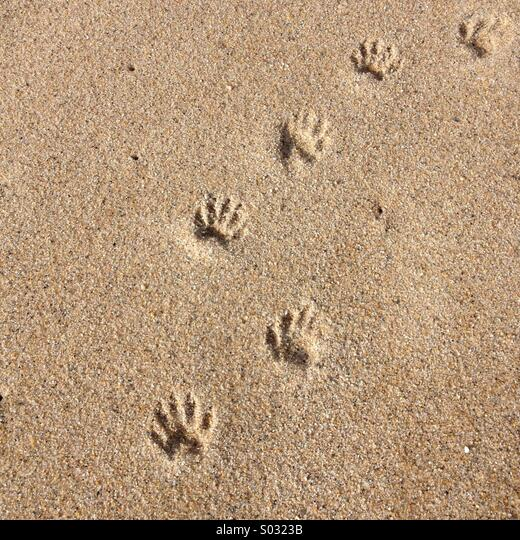raccoon: (142, 393, 217, 462), (262, 301, 336, 370), (270, 103, 336, 169), (450, 2, 504, 76), (186, 187, 252, 246), (344, 36, 410, 86)
